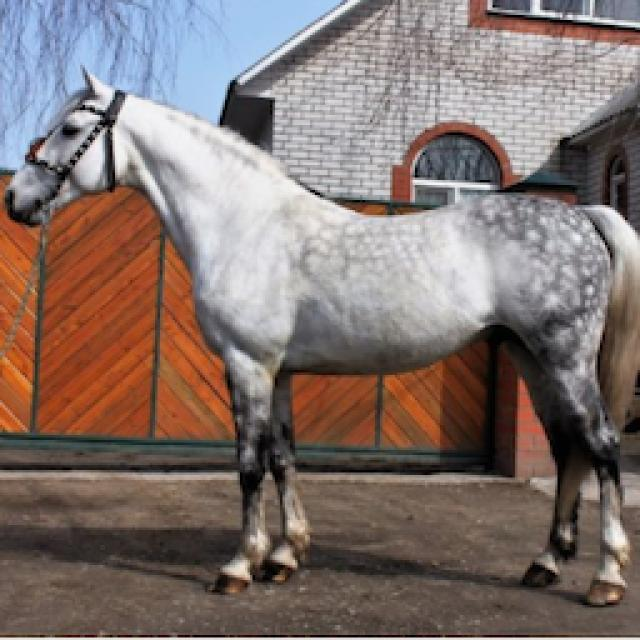Horse: (0, 60, 638, 610)
